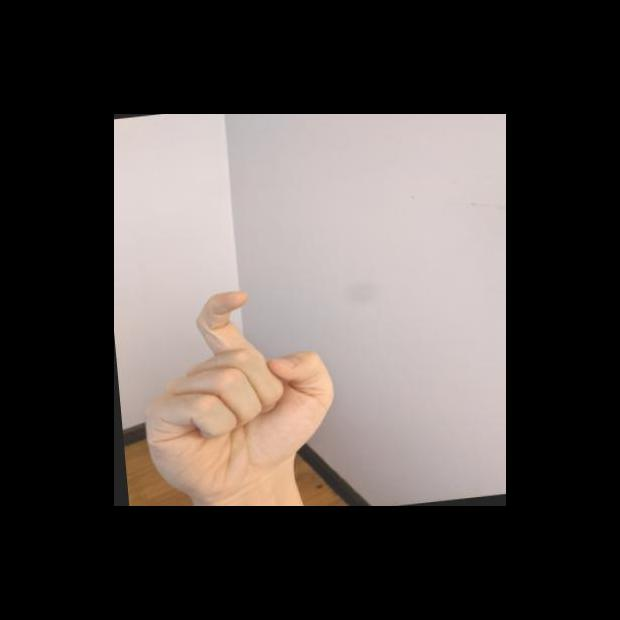W: (129, 278, 348, 505)
